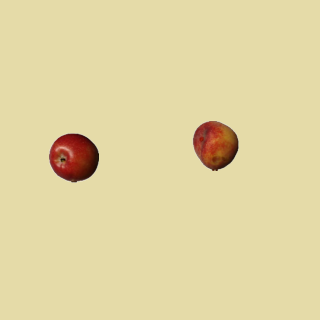Apple Braeburn: (48, 132, 98, 182)
Peach: (190, 120, 240, 170)
